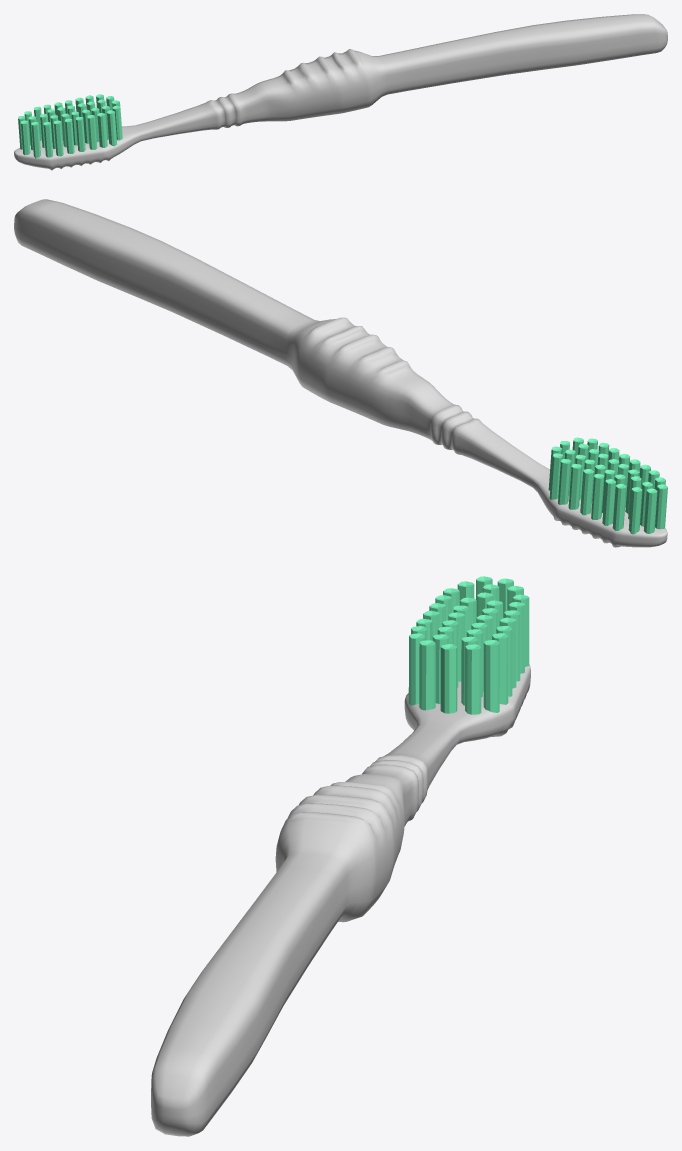
Rendered from toothbrush.glb.
3 views of the same model, one above another, from view 1: azimuth 30°, elevation 25°; view 2: azimuth 150°, elevation 25°; view 3: azimuth 270°, elevation 25° (orthographic). The views are drawn at different scales.
Visible parts, largest first — view 1: Toothbrush_New; view 2: Toothbrush_New; view 3: Toothbrush_New.
Boxes of the visible parts, x1,y1,x2,y2 form: Toothbrush_New: [14, 14, 667, 170]; Toothbrush_New: [14, 199, 667, 547]; Toothbrush_New: [151, 576, 530, 1136].
Bounding box in the file's own units: 0.2131 × 0.0266 × 0.0613.
